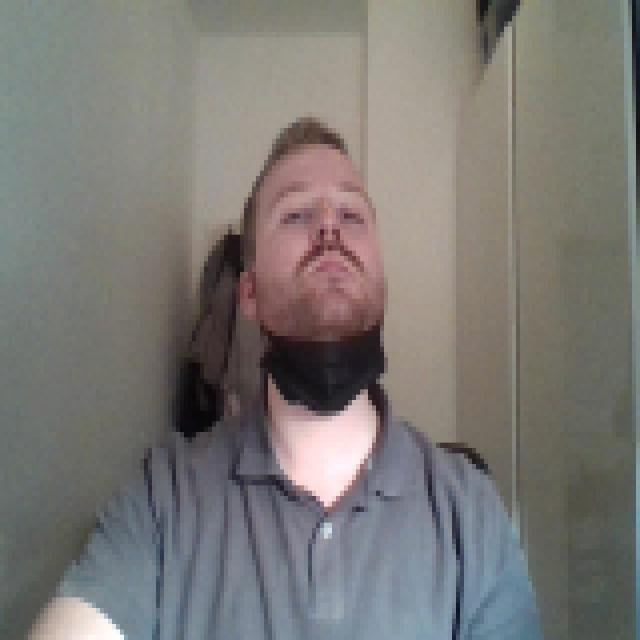hairnet: (216, 218, 404, 416)
